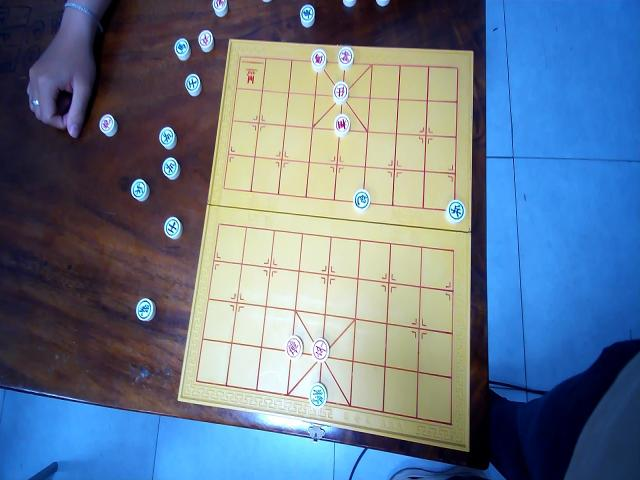piece: (135, 297, 155, 322), (445, 198, 465, 222), (130, 177, 149, 202), (285, 334, 303, 360), (309, 382, 327, 408), (98, 113, 117, 137), (332, 113, 350, 137), (311, 337, 329, 361), (163, 216, 181, 240), (162, 156, 180, 180), (352, 189, 370, 211), (184, 73, 201, 96), (159, 126, 176, 149), (198, 28, 214, 52), (311, 46, 327, 70), (332, 80, 348, 103), (337, 45, 353, 68), (174, 37, 190, 60), (300, 4, 316, 27), (212, 0, 228, 16), (375, 0, 390, 7), (342, 0, 356, 7)
